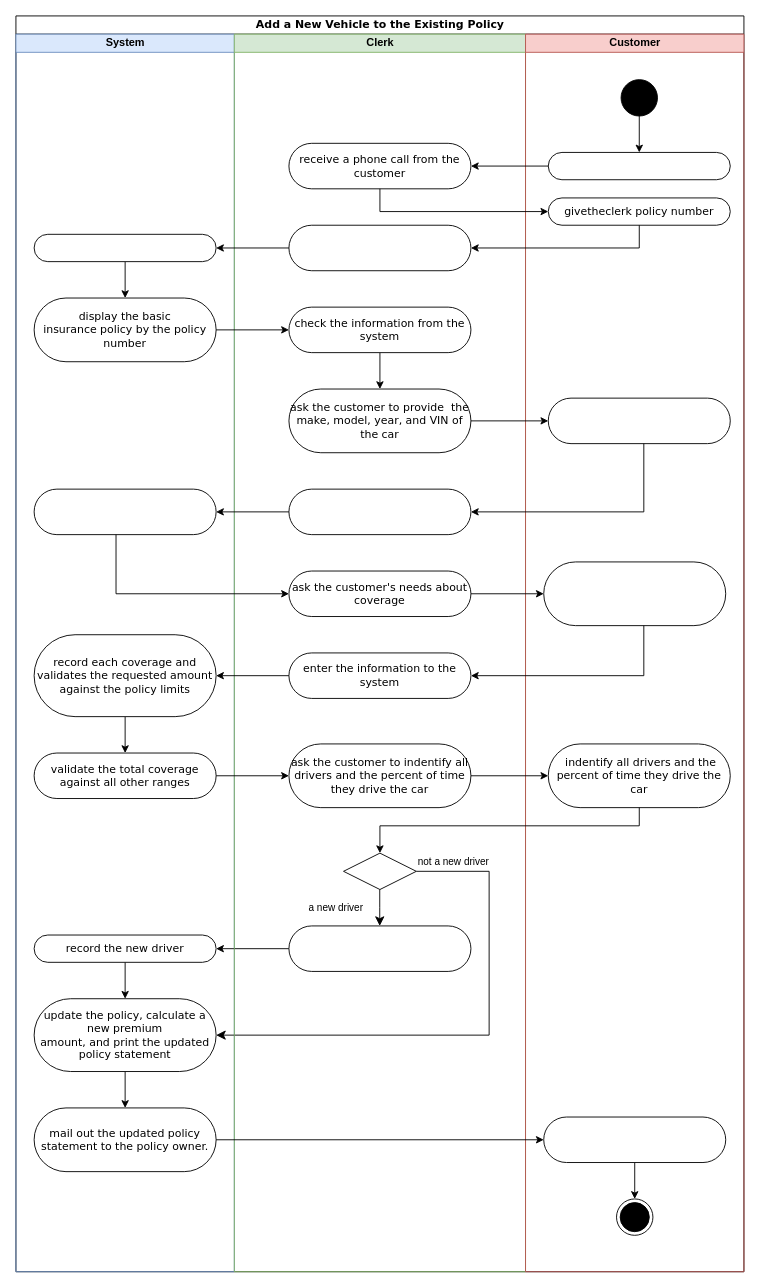
The diagram is 760 pixels wide and 1288 high, and some of its shapes have lost their labels. The shapes that lost their labels are listed below. From the top down, each one's centre as x and y in pixels, then its label:
At (638,166): "call an insurance clerk".
At (124,247): "receive the policy number".
At (379,247): "enter the policy number to the system".
At (638,420): "provide the neccessary information to the clerk".
At (124,511): "validate the given data and return result to the clerk".
At (379,511): "received the information and enter it to the system".
At (634,593): "select types of coverage desired and the amount of each".
At (379,948): "add a new driver to the system".
At (634,1139): "receive the updated policy statement".
